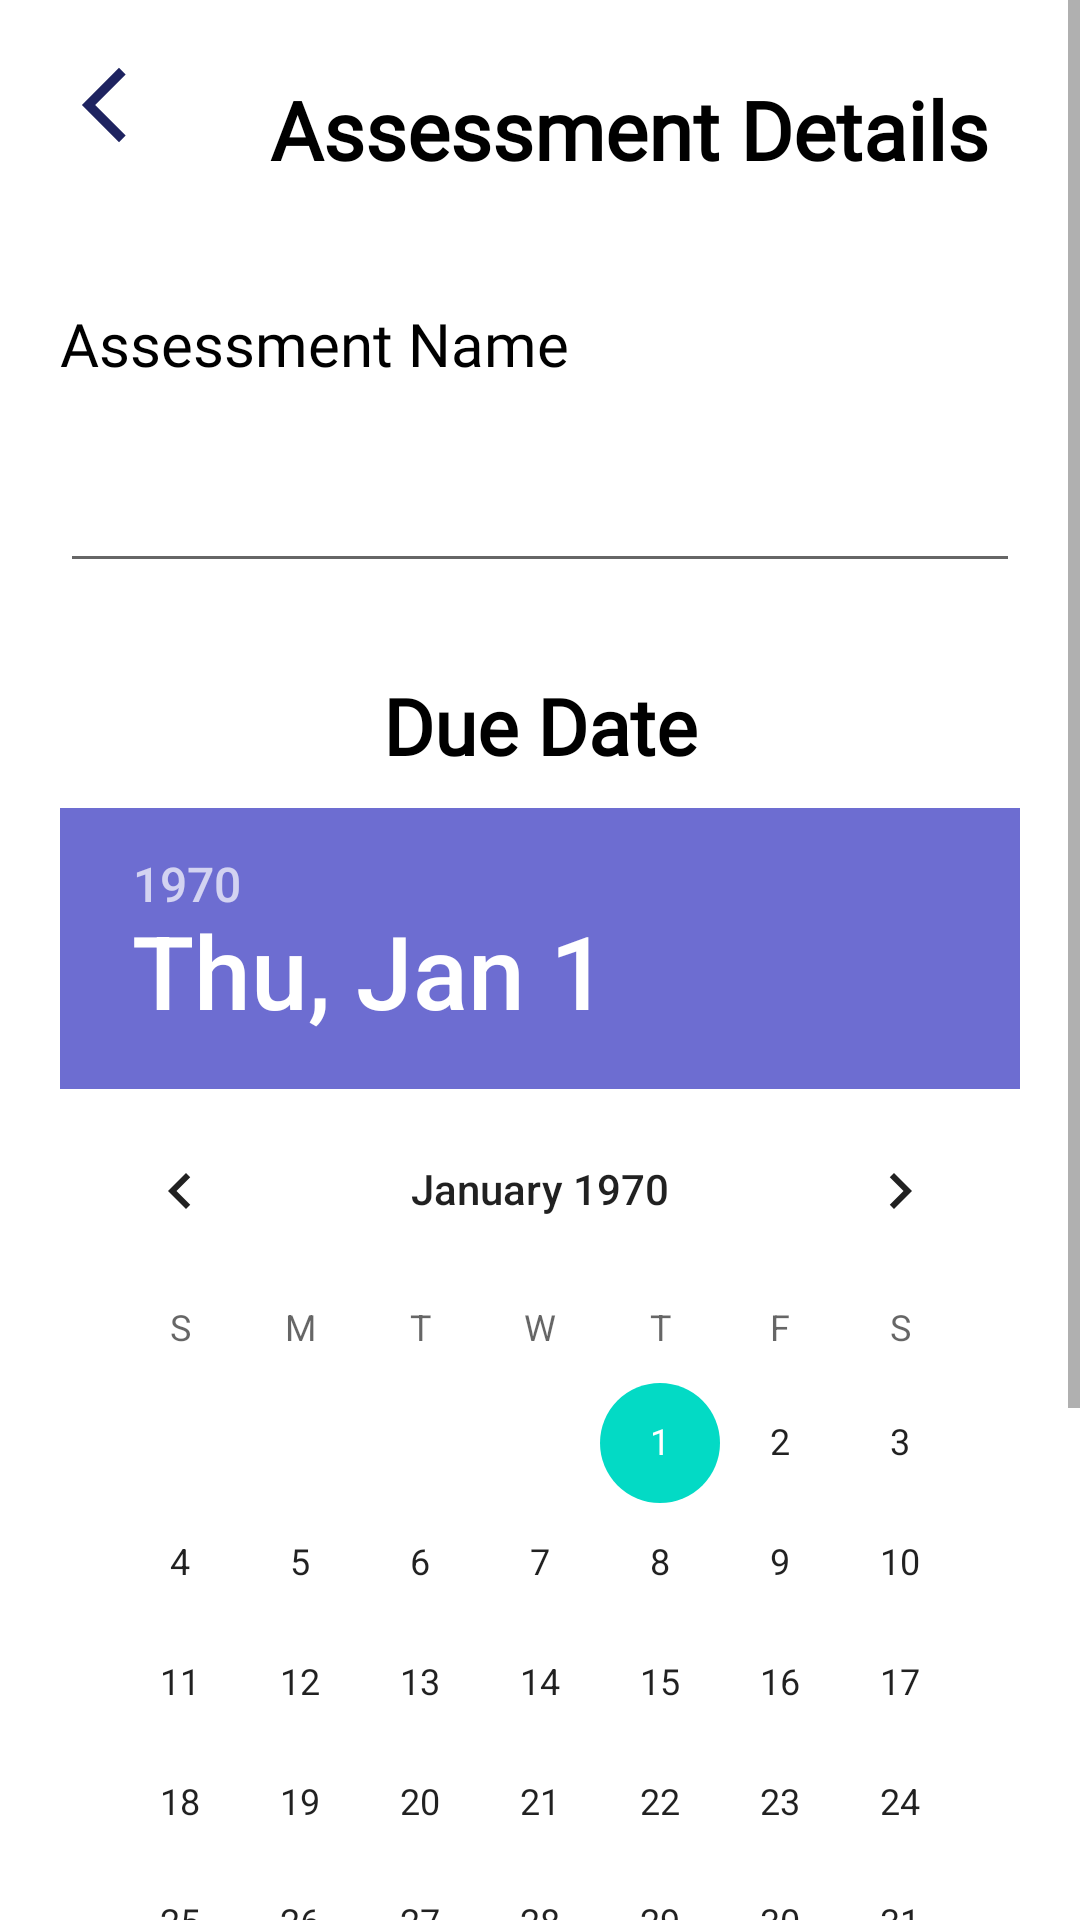

Screen size 1080px×1920px. Icon name, then its box in pixels as detection(x1, y1, x2, y2):
arrow back: detection(82, 68, 126, 142)
